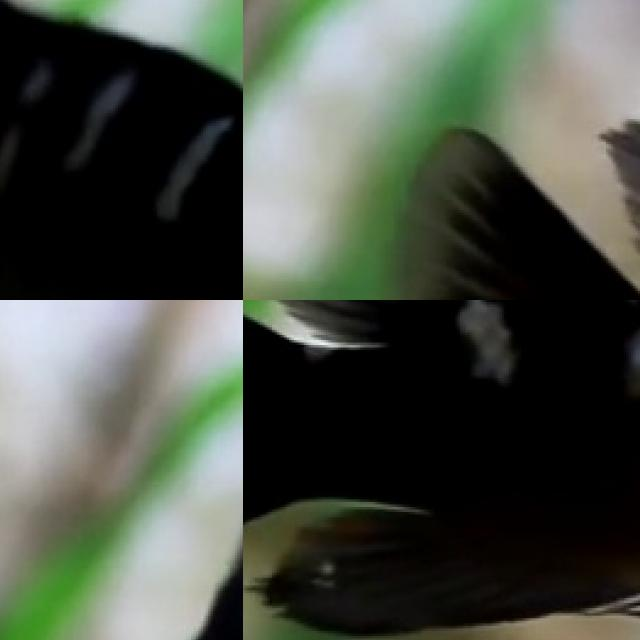fish: (243, 300, 640, 633), (0, 0, 243, 300)
